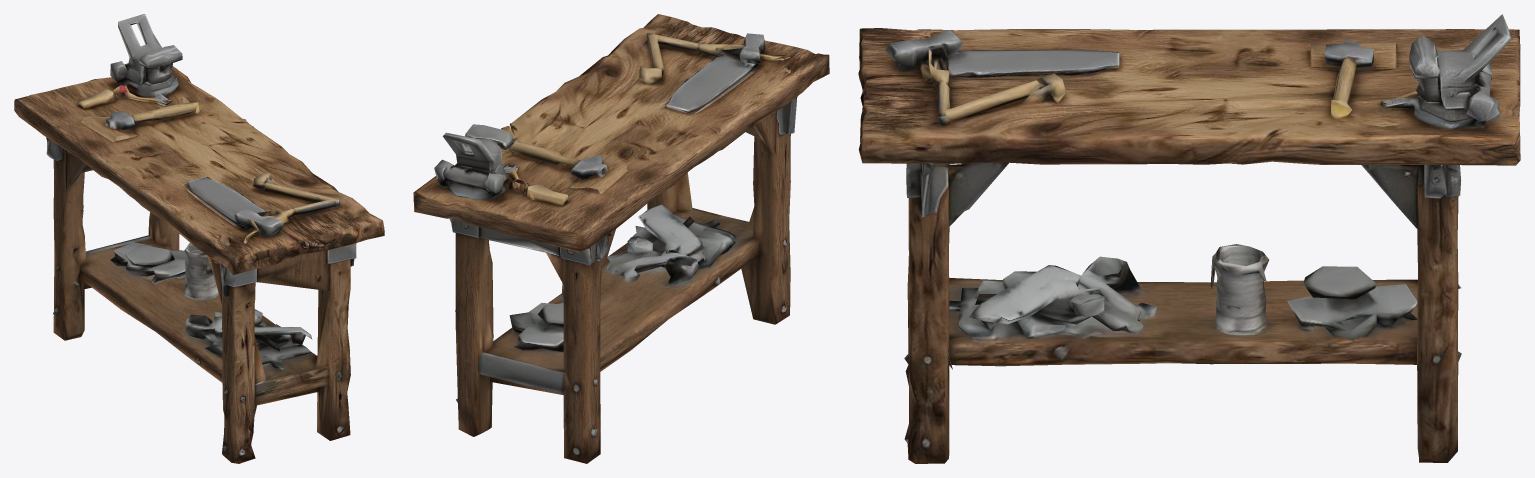
File: bb_workbench.4dc8ebd542.glb
The picture shows the model from 3 angles, left to right: view 1: azimuth 30°, elevation 25°; view 2: azimuth 150°, elevation 25°; view 3: azimuth 270°, elevation 25°; orthographic projection. The views are drawn at different scales.
Parts seen in each view (by area): view 1: bb_workbench; view 2: bb_workbench; view 3: bb_workbench.
Part boxes in pixels (bbox=[...]): bb_workbench: bbox=[14, 14, 384, 463]; bb_workbench: bbox=[413, 14, 829, 463]; bb_workbench: bbox=[858, 14, 1520, 463].
Size of the model in its own units: 0.6442 by 1.13 by 1.6.
1 material, 1 textured.
